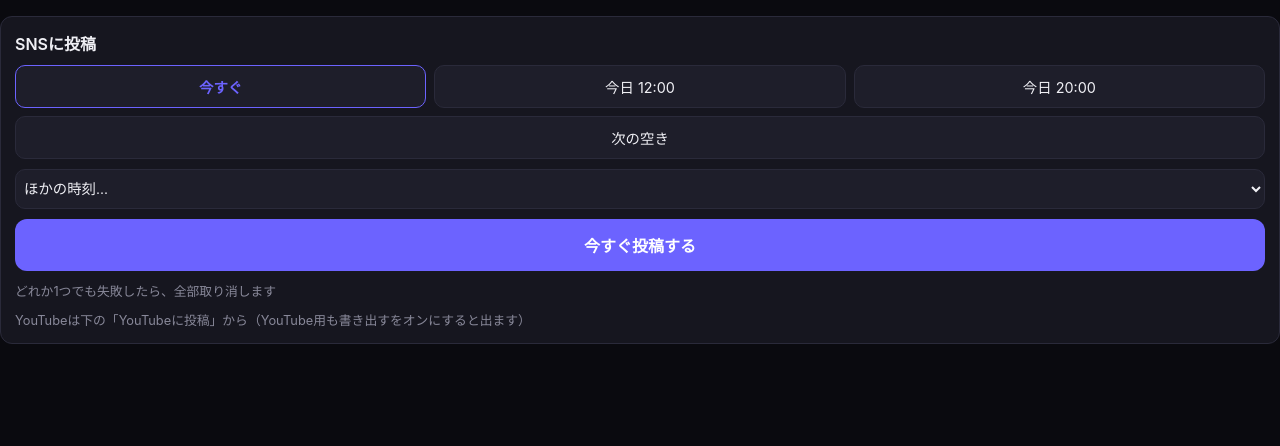
Test: PostToSns › reuses the upload and post id on a retry after a failed network
Click the button "今すぐ投稿する" at (640,245), box [15, 219, 1265, 271]
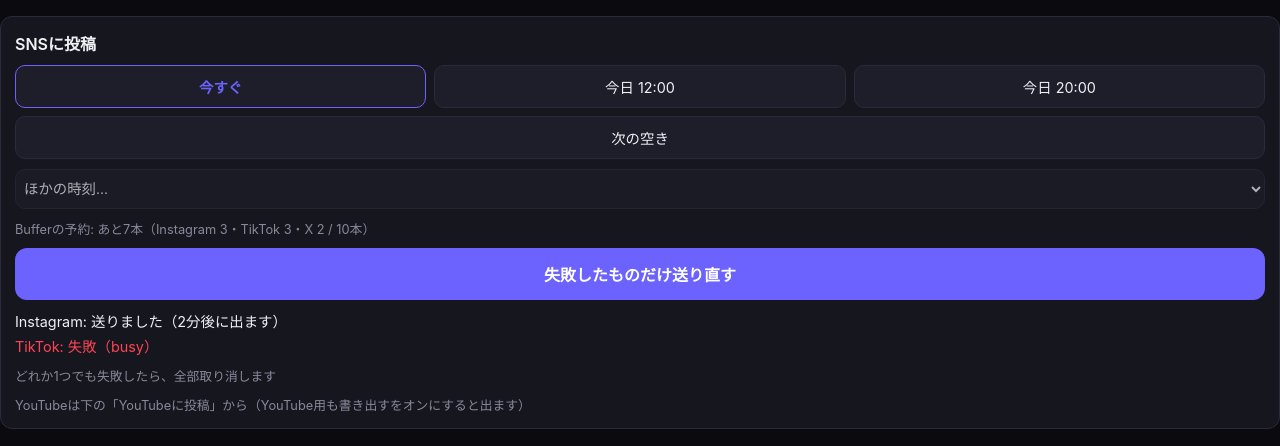
Click the button "失敗したものだけ送り直す" at (640,274), box [15, 248, 1265, 300]
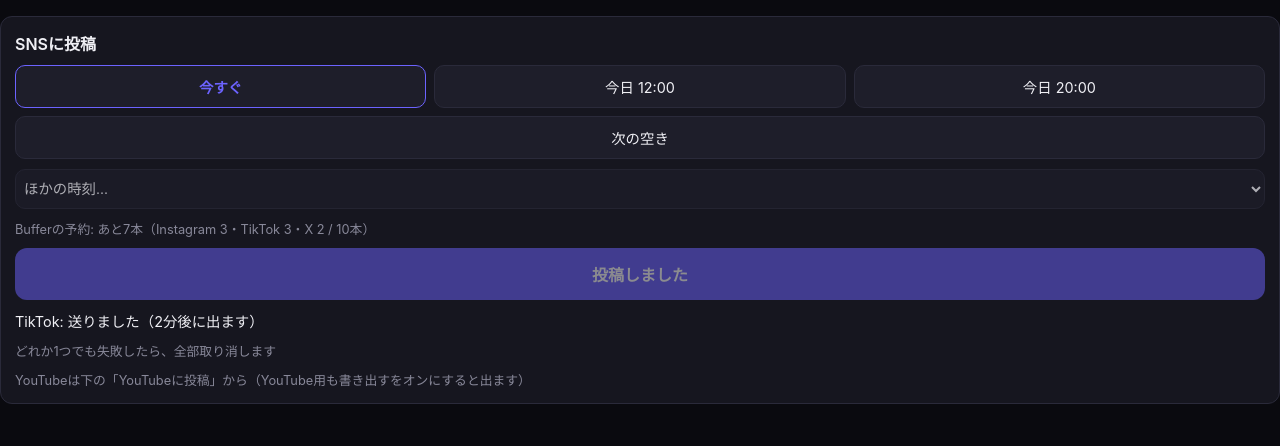
expect the list item "TikTok: 送りました（2分後に出ます）" is shown: met, box [15, 313, 264, 330]
